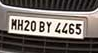0: (30, 19, 37, 32)
2: (23, 19, 30, 32)
4: (55, 22, 62, 34), (62, 22, 68, 35)
5: (75, 23, 82, 35)
6: (68, 23, 75, 35)
B: (39, 20, 45, 33)
H: (17, 19, 24, 31)
M: (10, 17, 17, 31)
Y: (45, 21, 52, 34)
